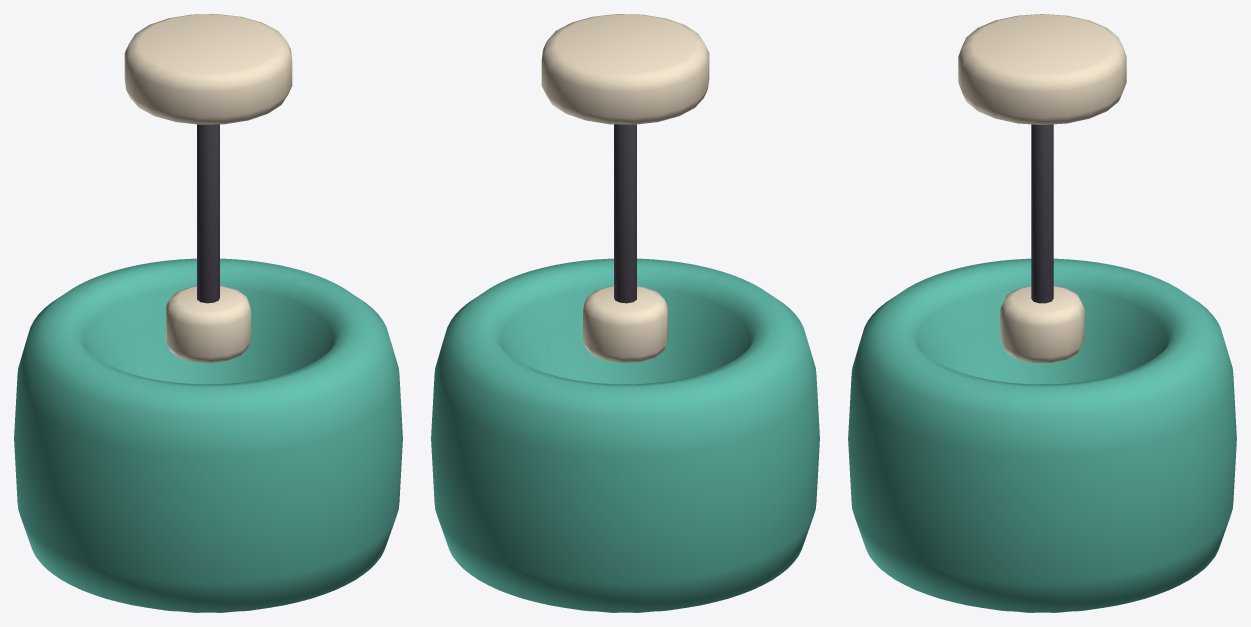
The model's file is ceiling_light_b.glb.
The picture shows the model from 3 angles, left to right: view 1: azimuth 30°, elevation 25°; view 2: azimuth 150°, elevation 25°; view 3: azimuth 270°, elevation 25°; orthographic projection.
Parts seen in each view (by area): view 1: body; view 2: body; view 3: body.
Part boxes in pixels (x1,y1,x2,y2): body: (14,14,402,612); body: (431,14,819,612); body: (848,14,1236,612).
Size of the model in its own units: 0.2769 by 0.4 by 0.2769.
